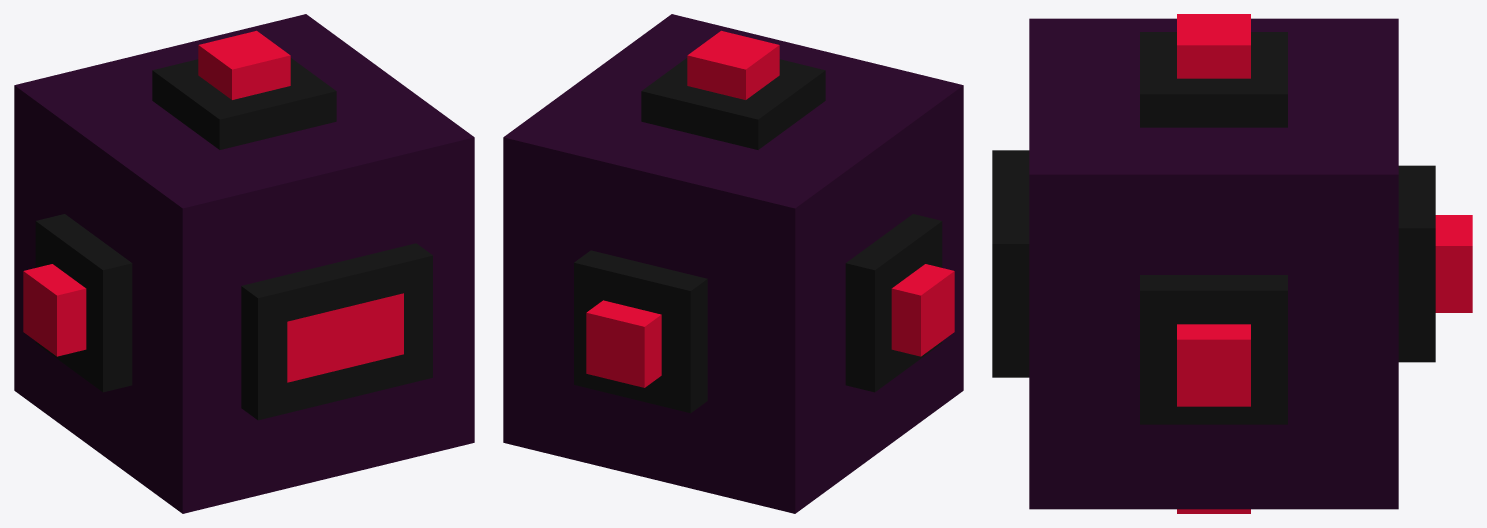
File: Enemy_Virus.obj
3 renders of one model, left to right at view 1: azimuth 30°, elevation 25°; view 2: azimuth 150°, elevation 25°; view 3: azimuth 270°, elevation 25°, orthographic. The views are drawn at different scales.
Size of the model in its own units: 1.4 by 1.4 by 1.3.
1 material, 1 textured.
